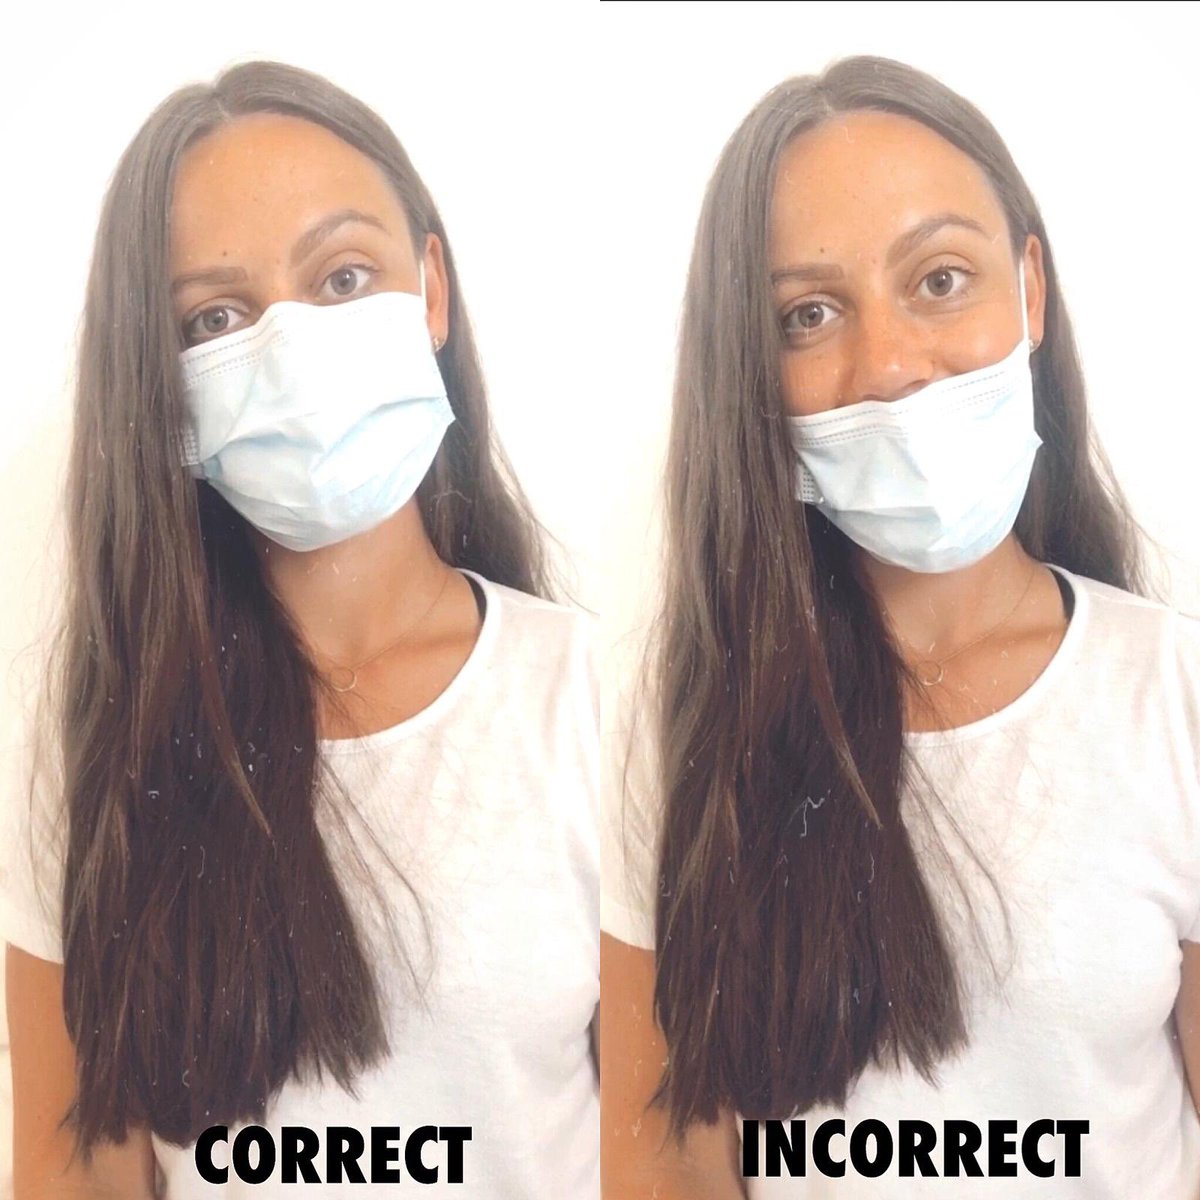with_incorrect_mask: (739, 128, 1031, 558)
with_mask: (138, 135, 435, 524)
